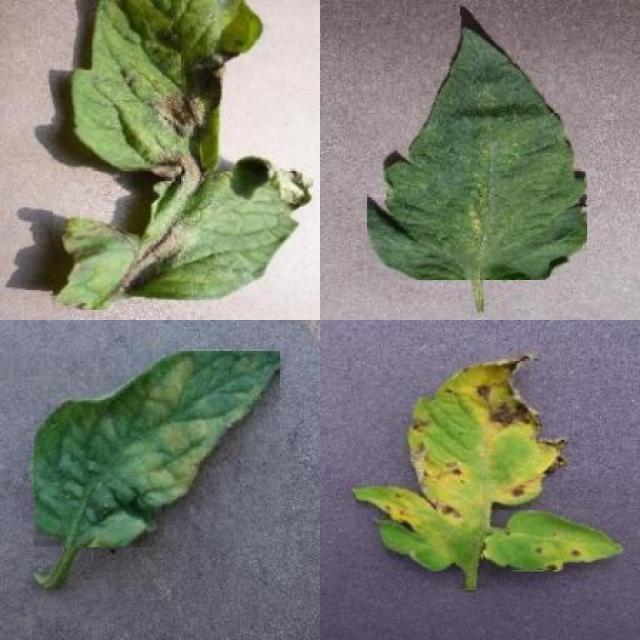Late Blight: (53, 0, 313, 310)
Leaf Mold: (34, 351, 280, 548)
Septoria: (356, 354, 568, 572), (483, 510, 623, 570)
Spider Mites: (367, 27, 587, 280)
